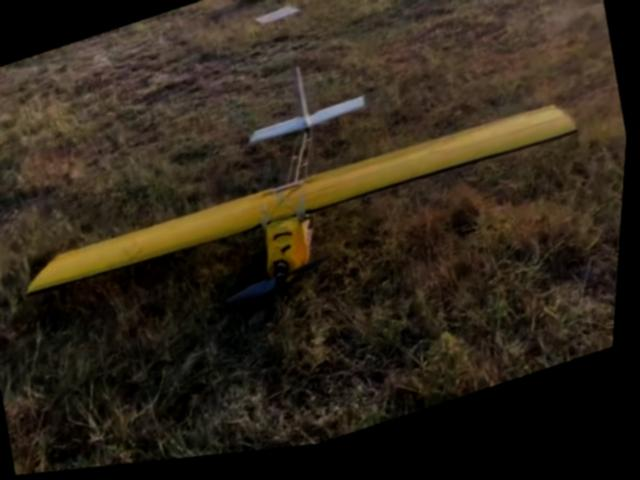uav: (0, 0, 600, 369)
